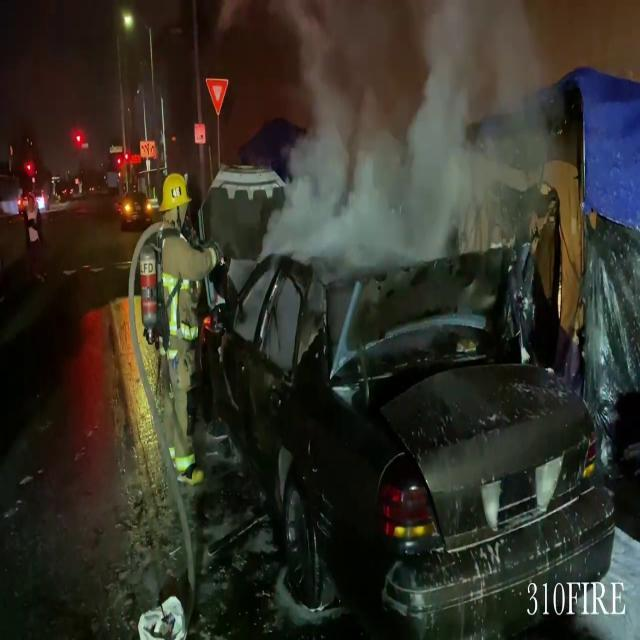Smoke: (254, 0, 550, 282)
